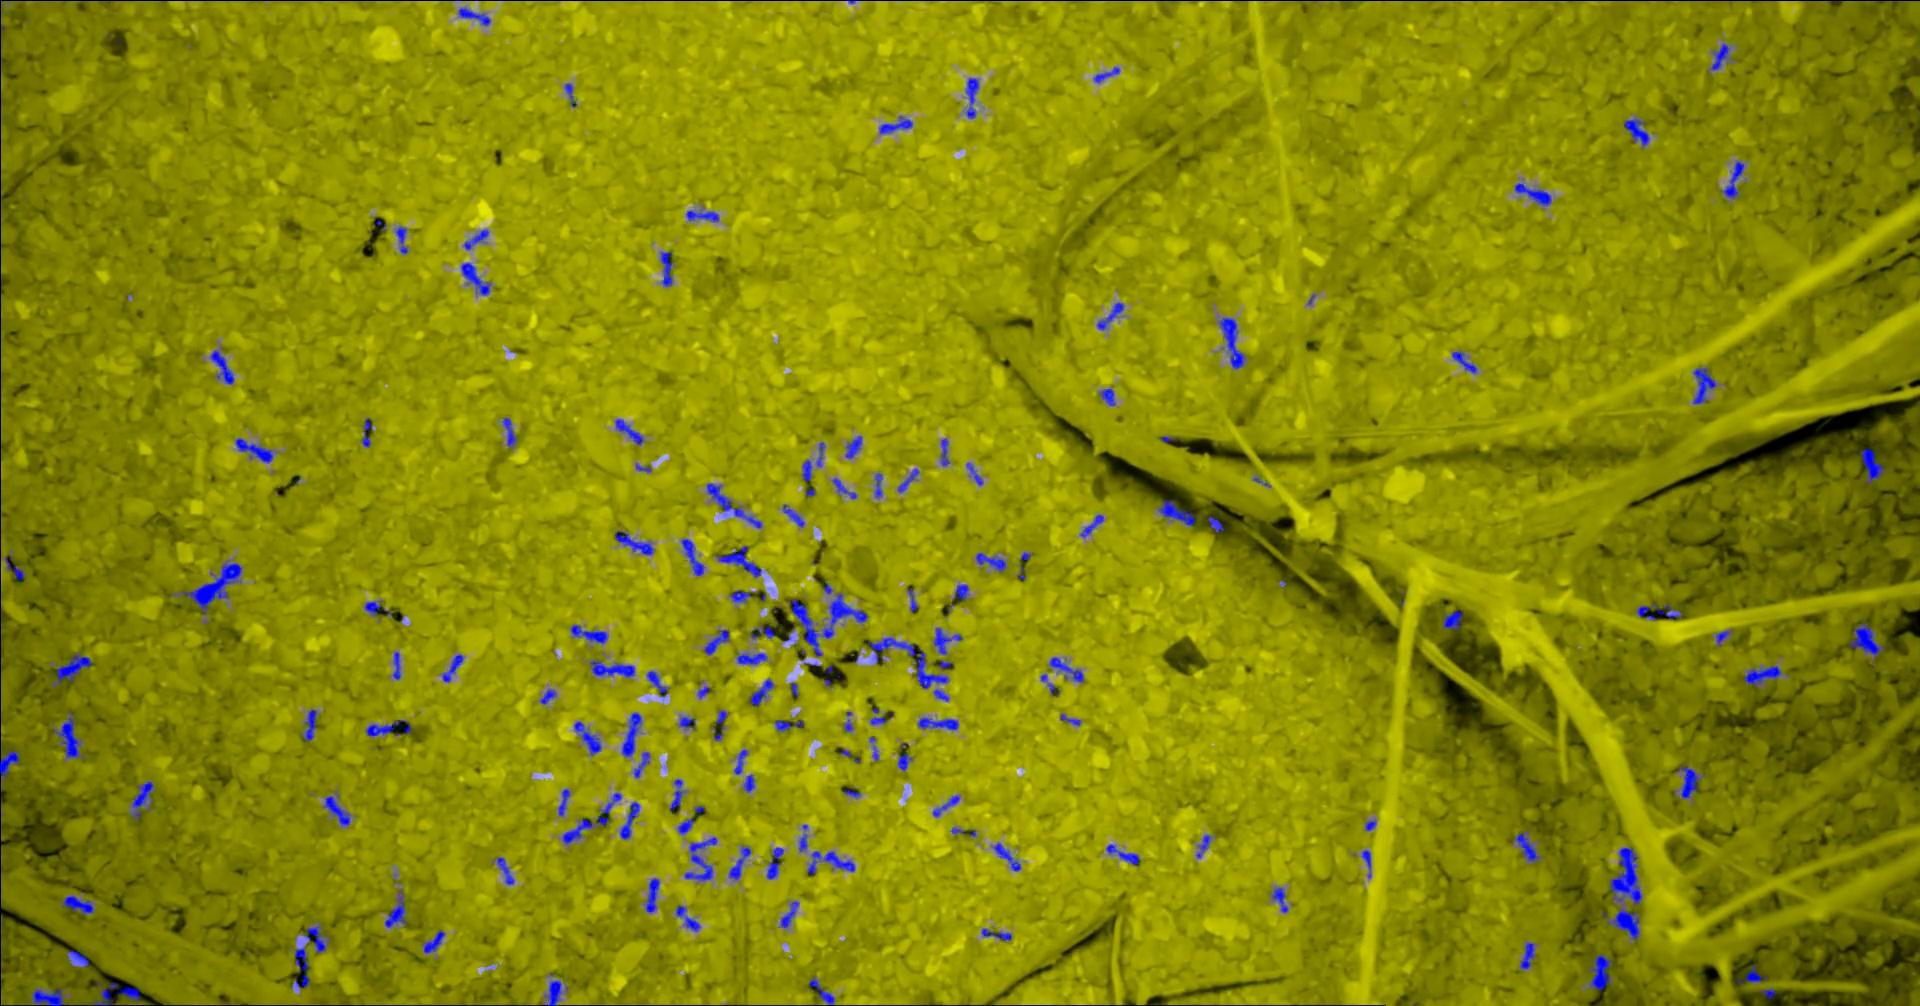ant: (867, 636, 949, 688), (180, 560, 241, 614), (561, 793, 621, 843), (706, 481, 761, 528), (1609, 847, 1641, 904), (714, 545, 761, 577), (684, 836, 716, 880), (51, 652, 91, 686), (53, 711, 83, 758), (1218, 318, 1244, 368), (84, 981, 140, 1005), (1601, 908, 1639, 940), (1849, 622, 1883, 657), (806, 850, 855, 874), (1157, 499, 1195, 526), (460, 262, 490, 295), (615, 530, 653, 555), (1048, 655, 1083, 682), (235, 437, 272, 462), (801, 441, 824, 481), (573, 721, 601, 754), (0, 741, 19, 789), (130, 780, 152, 819), (1511, 831, 1540, 861), (621, 713, 641, 756), (1721, 160, 1743, 198), (1691, 367, 1716, 403), (1860, 447, 1884, 483), (990, 842, 1020, 871), (323, 795, 350, 826), (1514, 182, 1550, 205), (681, 539, 703, 575), (383, 890, 406, 927), (728, 845, 750, 880), (1589, 954, 1611, 989), (589, 659, 634, 677), (210, 349, 232, 384), (1623, 118, 1650, 147), (808, 976, 834, 1005), (364, 719, 411, 735), (618, 801, 639, 840), (1105, 843, 1140, 865), (1636, 602, 1681, 619), (615, 418, 643, 445), (933, 627, 961, 654), (291, 946, 309, 988), (1743, 666, 1782, 685), (1676, 765, 1698, 798), (1096, 302, 1123, 329), (570, 624, 607, 643), (441, 653, 463, 682), (703, 629, 729, 654), (676, 904, 700, 931), (750, 678, 773, 706), (61, 895, 94, 915), (1736, 964, 1768, 983), (457, 8, 490, 25), (879, 116, 912, 133), (1451, 351, 1477, 373), (975, 553, 1006, 572), (303, 925, 325, 951), (4, 553, 24, 580), (917, 716, 957, 730), (766, 847, 783, 879), (897, 467, 919, 492), (1079, 514, 1103, 537), (422, 929, 444, 953), (30, 988, 63, 1005), (1710, 43, 1731, 70), (646, 669, 667, 696), (932, 795, 959, 815), (644, 876, 659, 912), (965, 77, 978, 118), (830, 478, 856, 498), (778, 901, 797, 927), (669, 779, 684, 812), (497, 856, 514, 884), (463, 229, 488, 249), (301, 709, 316, 741), (502, 417, 517, 447), (782, 504, 803, 527), (363, 600, 391, 616), (1519, 941, 1535, 969), (712, 709, 726, 741), (632, 751, 649, 777), (660, 251, 673, 286), (844, 434, 862, 459), (543, 981, 561, 1005), (1093, 66, 1119, 83), (1271, 887, 1288, 912), (1040, 673, 1059, 695), (737, 652, 767, 664), (66, 949, 88, 967), (684, 210, 717, 221), (965, 462, 982, 485), (1195, 835, 1211, 857), (1443, 610, 1462, 629), (395, 225, 408, 253), (733, 749, 747, 774), (982, 929, 1011, 940), (775, 719, 803, 730), (557, 788, 569, 815), (1206, 514, 1224, 532), (361, 417, 371, 447), (564, 83, 577, 107), (750, 625, 775, 638), (677, 817, 695, 833), (905, 587, 917, 612), (730, 589, 753, 602), (1059, 713, 1081, 725), (869, 708, 885, 724), (1098, 387, 1114, 405), (538, 688, 556, 704), (797, 824, 808, 851), (1361, 848, 1370, 878), (940, 438, 949, 466), (0, 23, 5, 70), (952, 584, 968, 600), (897, 753, 910, 770), (743, 774, 754, 793), (874, 473, 883, 497), (869, 735, 877, 760), (1716, 630, 1730, 645), (392, 652, 400, 680), (933, 688, 949, 701), (678, 716, 695, 728), (1759, 988, 1775, 998)
